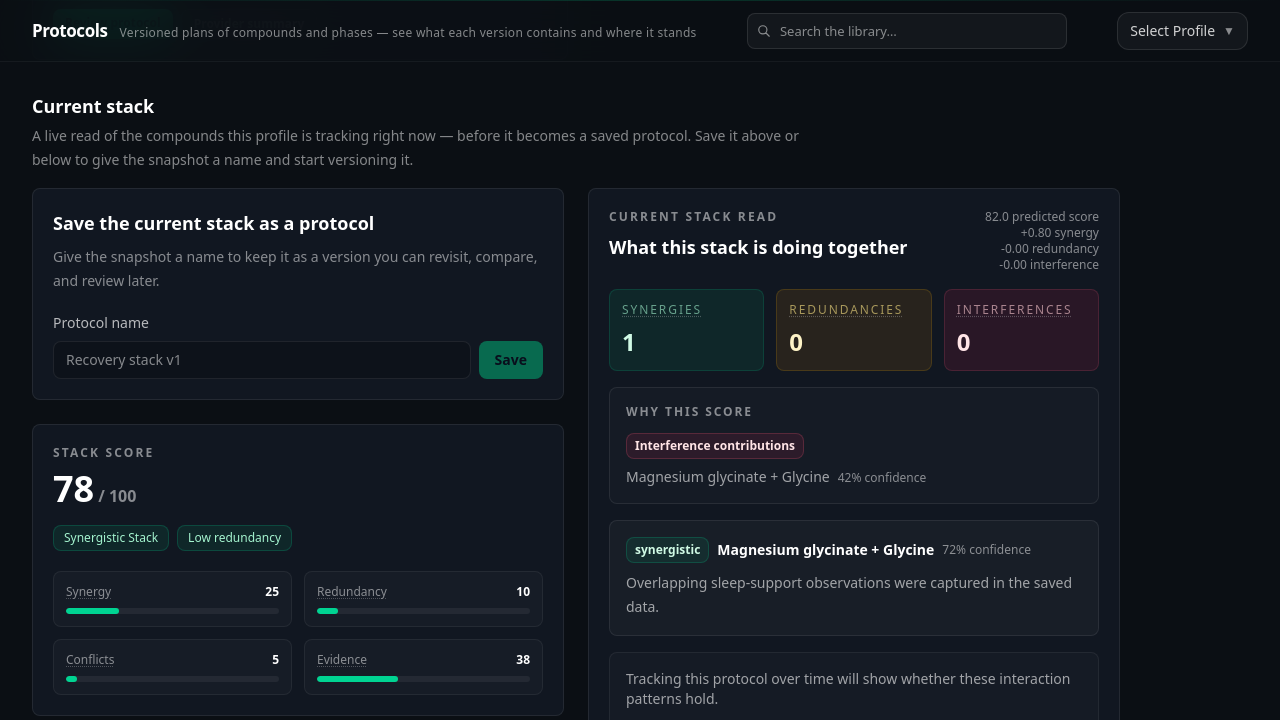
/protocols saved protocol actions › keeps the name and save form available after a failed explicit save
(page scrolled)
Type "Keep my name" into the field labelled "Protocol name" at (262, 360), box [53,341,471,379]
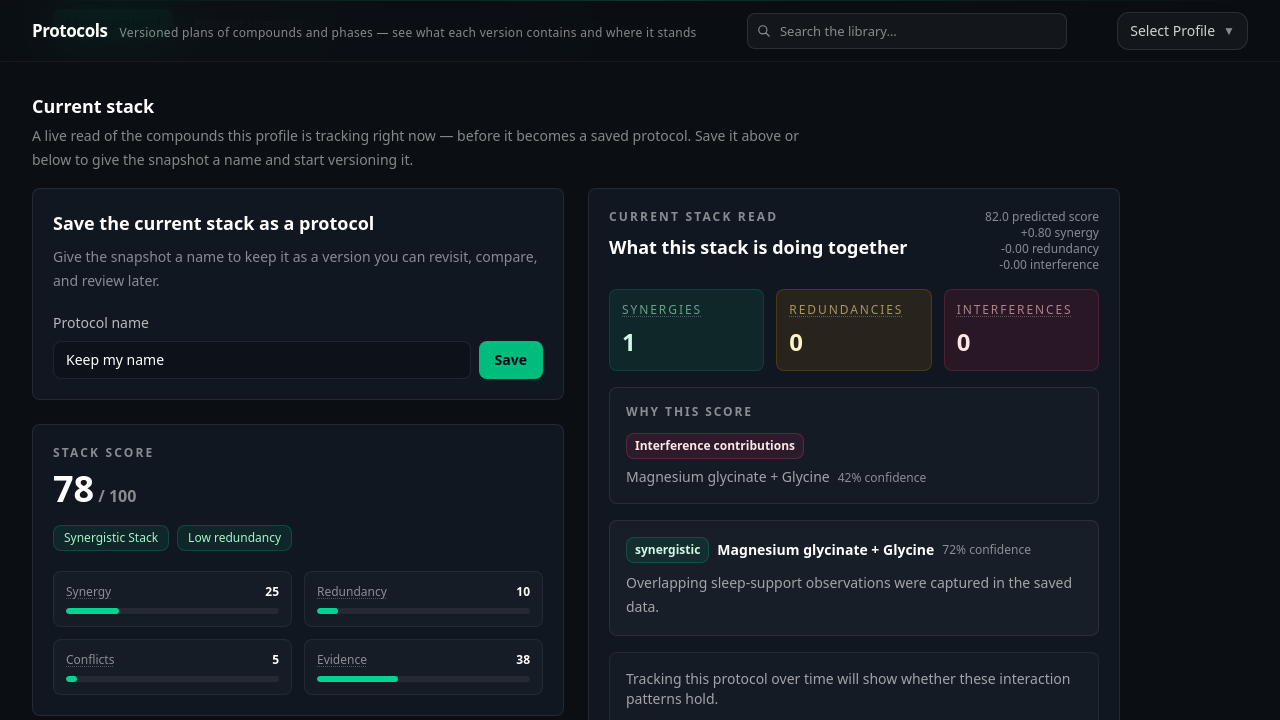
Click the button "Save" at (511, 360), box [479,341,543,379]
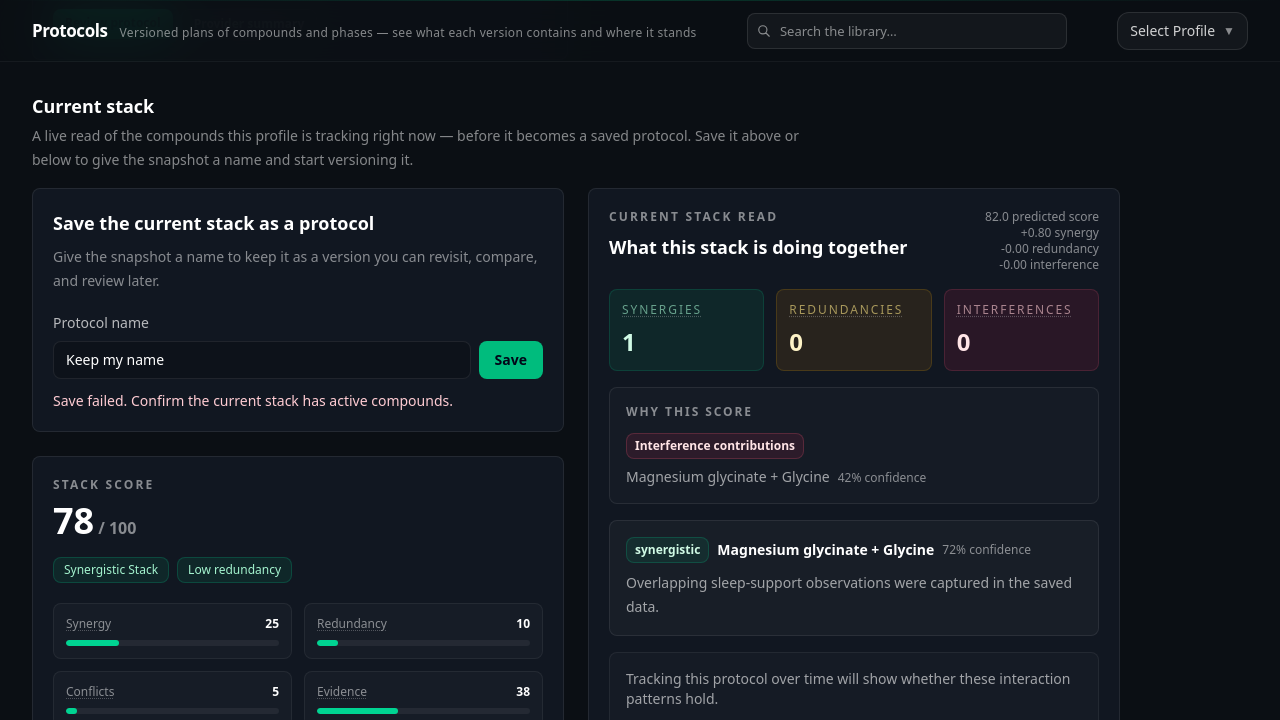
Expected: the button "Save" is enabled, [479,341,543,379]
Expected: the message shows "Save failed", [53,391,453,410]
